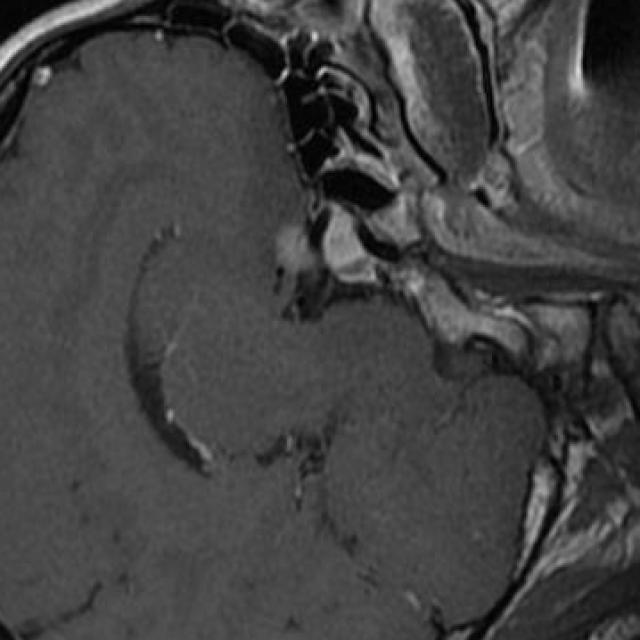pituitary: (323, 205, 380, 285)
